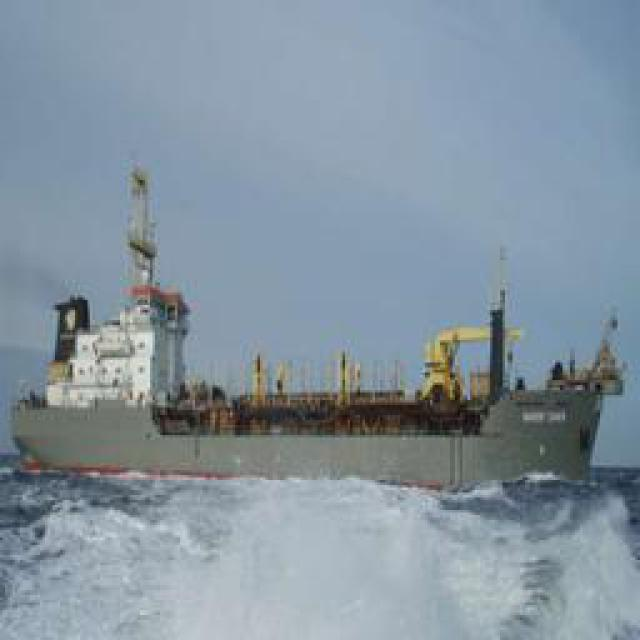Ship: (7, 155, 630, 497)
